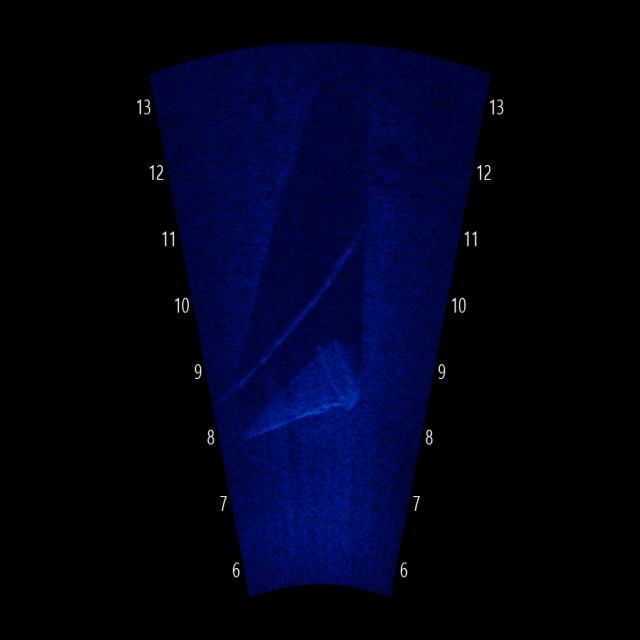triangle: (238, 321, 382, 455)
